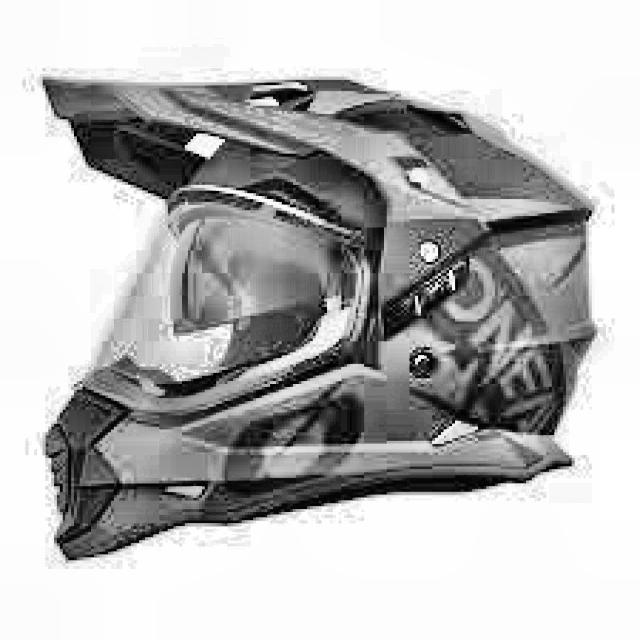Helmet: (23, 54, 626, 578)
